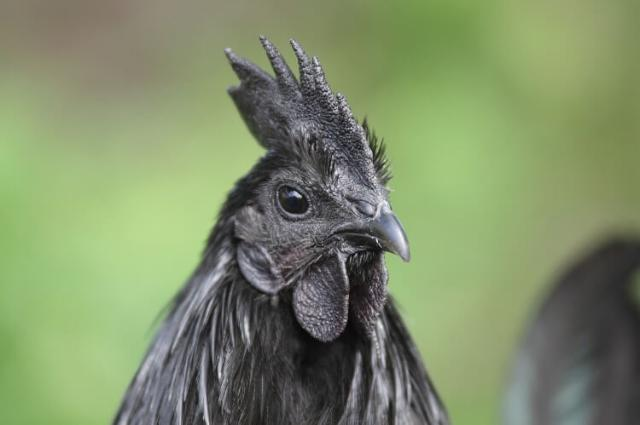Chicken: (113, 32, 452, 425)
